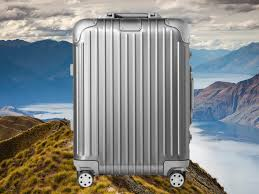suitcase: (69, 11, 194, 188)
